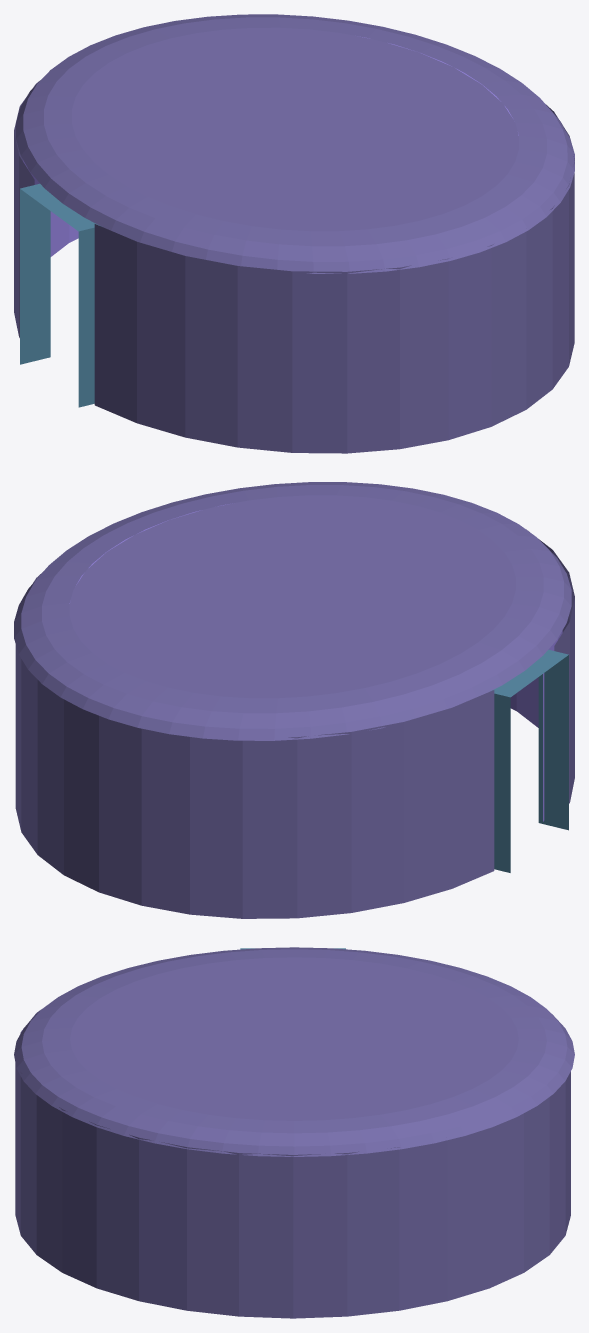
Rendered from bunker.fbx.
The picture shows the model from 3 angles, top to bottom: view 1: azimuth 30°, elevation 25°; view 2: azimuth 150°, elevation 25°; view 3: azimuth 270°, elevation 25°; orthographic projection. The views are drawn at different scales.
Visible parts, largest first — view 1: Cilindro.001; view 2: Cilindro.001; view 3: Cilindro.001.
Part boxes in pixels (x1,y1,x2,y2): Cilindro.001: [14, 14, 574, 453]; Cilindro.001: [14, 482, 574, 918]; Cilindro.001: [14, 947, 574, 1318].
Bounding box in the file's own units: 726 × 285 × 816.
